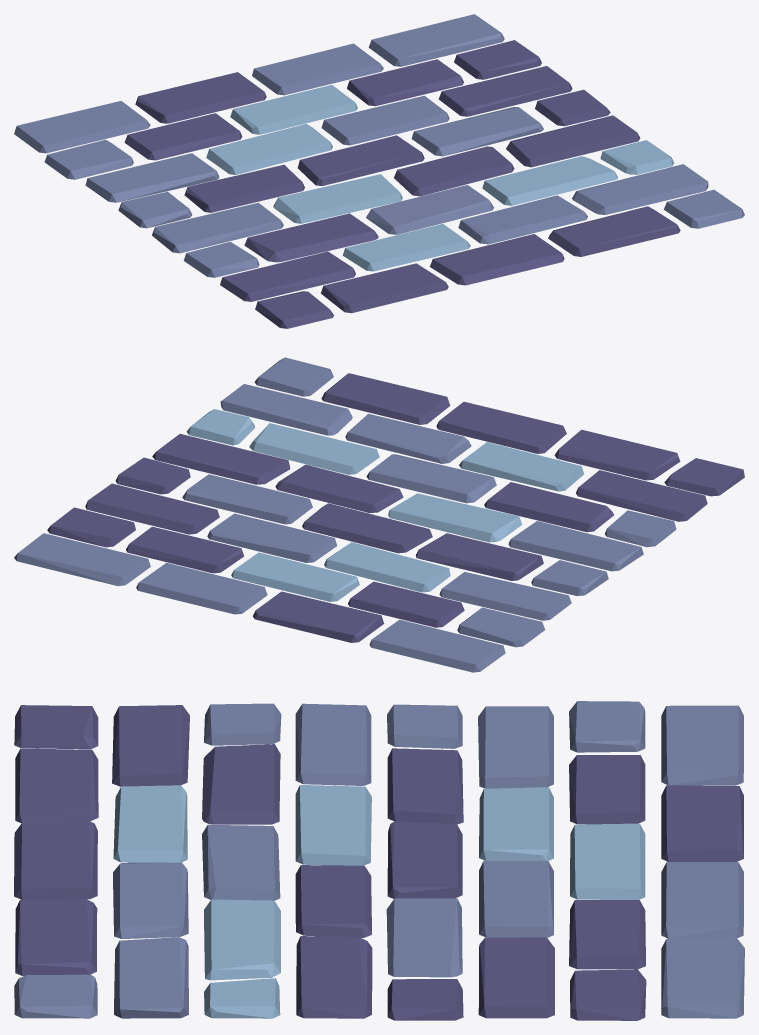
The model's file is Floor_Stones_Regular_02.fbx.
3 views of the same model, one above another, from view 1: azimuth 30°, elevation 25°; view 2: azimuth 150°, elevation 25°; view 3: azimuth 270°, elevation 25° (orthographic). The views are drawn at different scales.
Parts seen in each view (by area): view 1: Floor Stone 07; view 2: Floor Stone 07; view 3: Floor Stone 07.
Part boxes in pixels (box(x1,y1,x2,y2)): Floor Stone 07: box(14, 14, 744, 328); Floor Stone 07: box(14, 357, 744, 672); Floor Stone 07: box(14, 701, 744, 1020).
Bounding box in the file's own units: 405 × 7.81 × 400.
